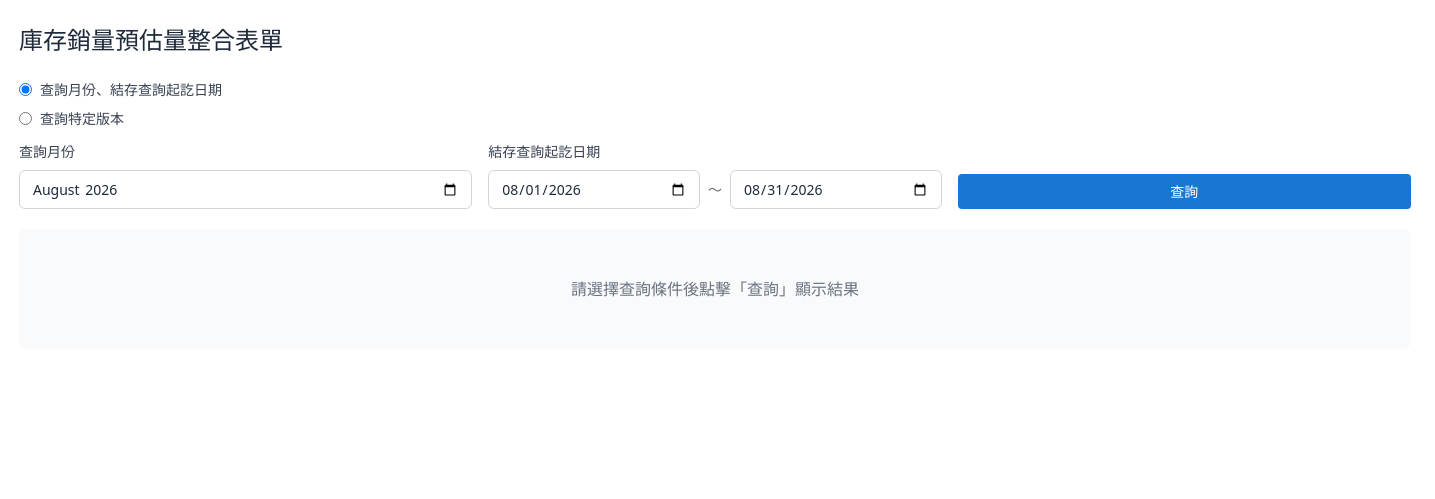
Test: InventoryIntegrationPage › should query data on button click
Replace the text in the field labelled "查詢月份" with "2026-01" at (246, 190), box [19,170,472,209]
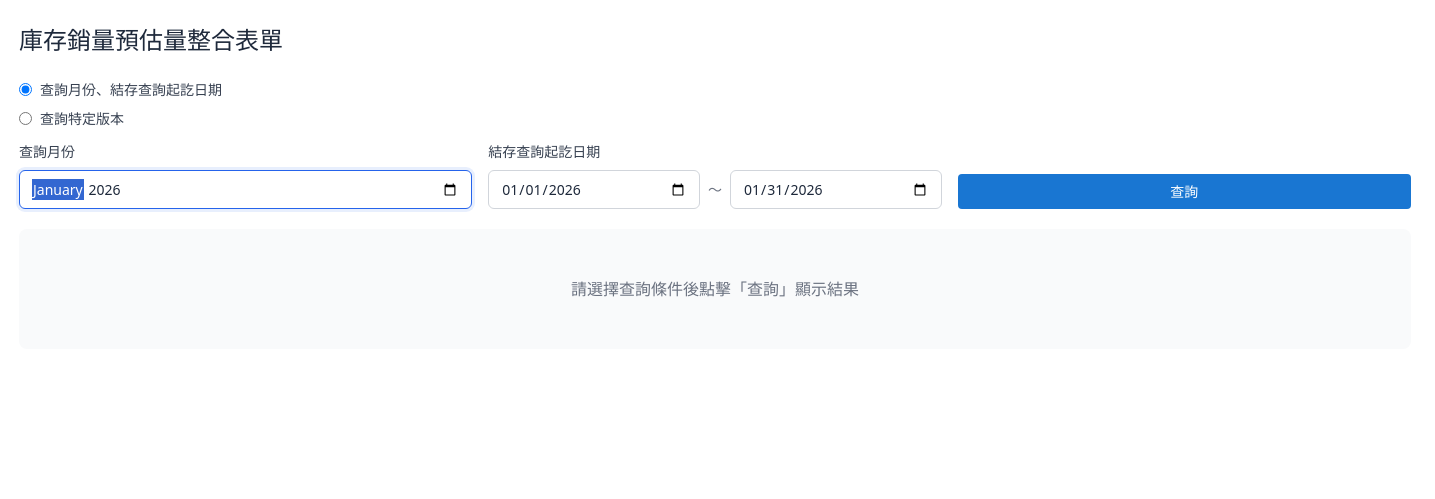
Click the button "查詢" at (1184, 191), box [958,174,1411,209]
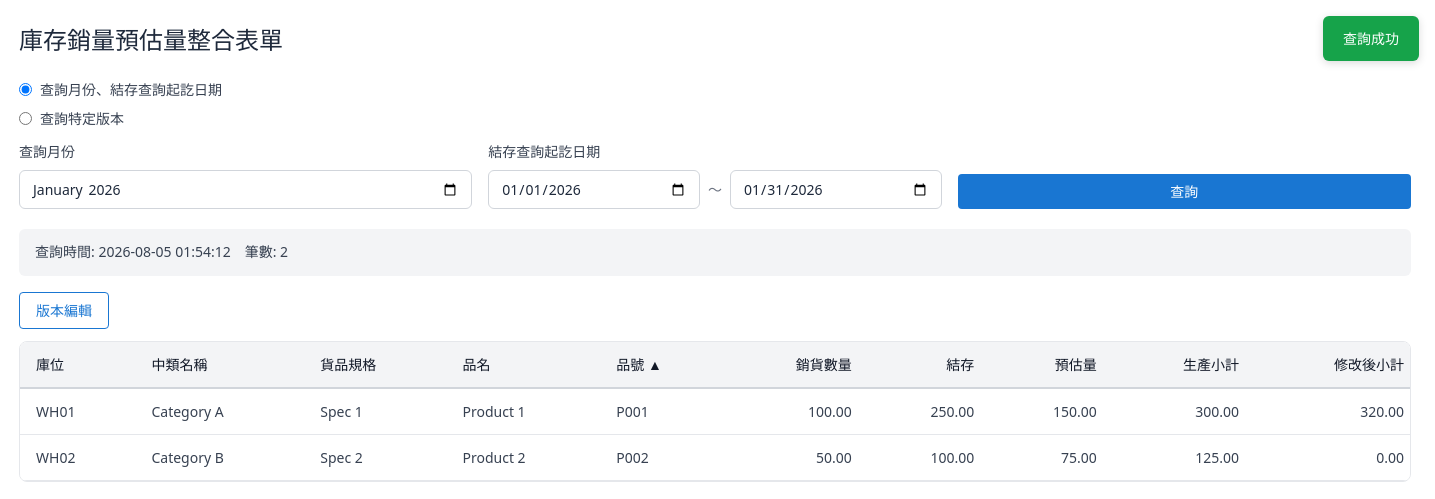
Check: the text "P001" is shown, box [600,388,726,435]
Check: the text "Product 1" is shown, box [446,388,600,435]
Check: the text "P002" is shown, box [600,435,726,481]
